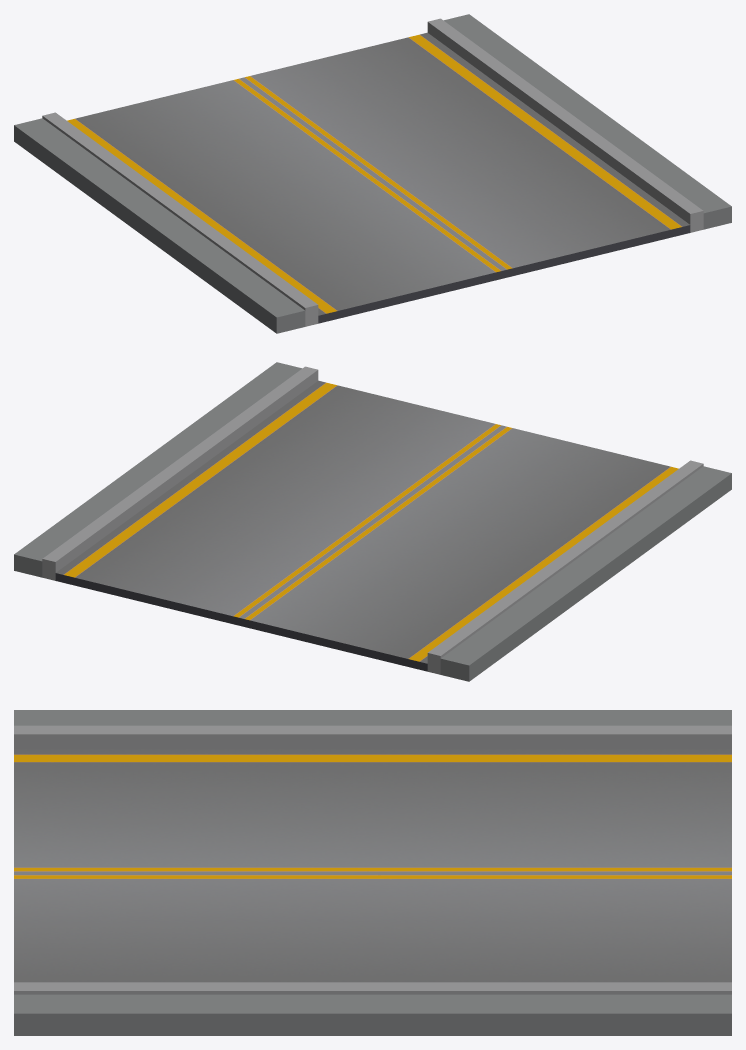
File: Road1.dae
The picture shows the model from 3 angles, top to bottom: view 1: azimuth 30°, elevation 25°; view 2: azimuth 150°, elevation 25°; view 3: azimuth 270°, elevation 25°; orthographic projection. The views are drawn at different scales.
Parts seen in each view (by area): view 1: Road1; view 2: Road1; view 3: Road1.
Part boxes in pixels (<box>): Road1: <box>14,14,731,333</box>; Road1: <box>14,362,731,681</box>; Road1: <box>14,710,731,1035</box>.
Size of the model in its own units: 12 by 12 by 0.4753.
Materials: 1 (1 with a texture image).
